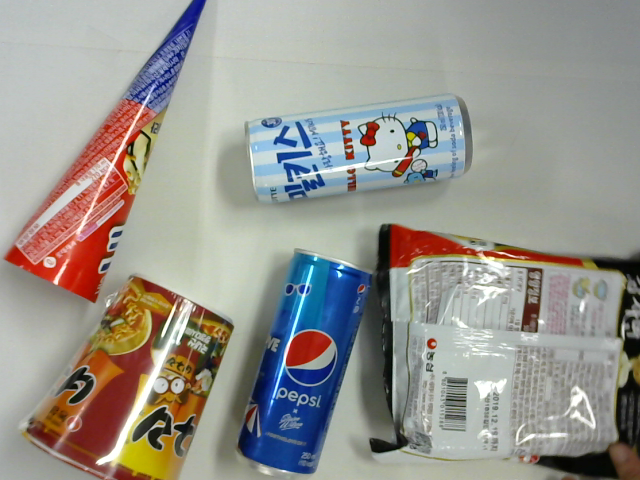Milkies_250ml: (248, 90, 473, 206)
Pepsi_Cola_Can_250ml: (233, 247, 378, 477)
Potato: (378, 224, 640, 468)
Raccoon: (32, 272, 228, 480)
World_Cone_Banila: (5, 1, 207, 302)
